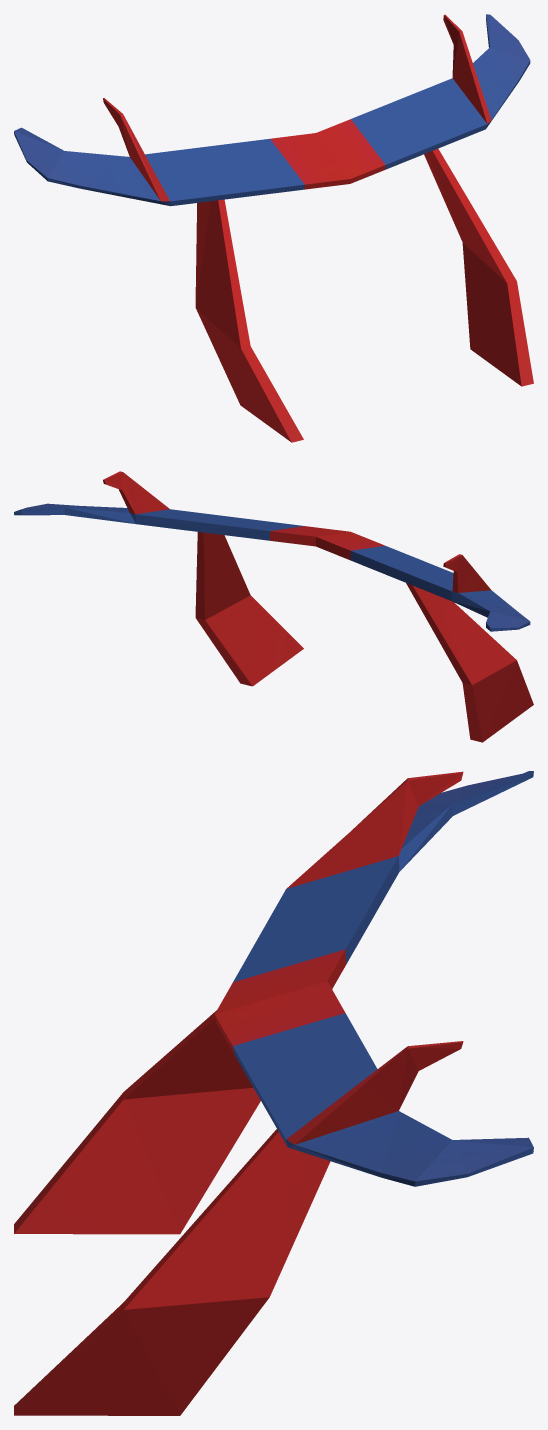
Rendered from SpeedSpoiler01R01.gltf.
3 views of the same model, one above another, from view 1: azimuth 30°, elevation 25°; view 2: azimuth 150°, elevation 25°; view 3: azimuth 270°, elevation 25° (orthographic). The views are drawn at different scales.
Visible parts, largest first — view 1: SpeedSpoiler01R01; view 2: SpeedSpoiler01R01; view 3: SpeedSpoiler01R01.
Boxes of the visible parts, box(x1,y1,x2,y2) form: SpeedSpoiler01R01: box(14, 14, 533, 442); SpeedSpoiler01R01: box(14, 471, 533, 742); SpeedSpoiler01R01: box(14, 771, 533, 1415).
Bounding box in the file's own units: 0.1995 × 0.099 × 0.1128.
